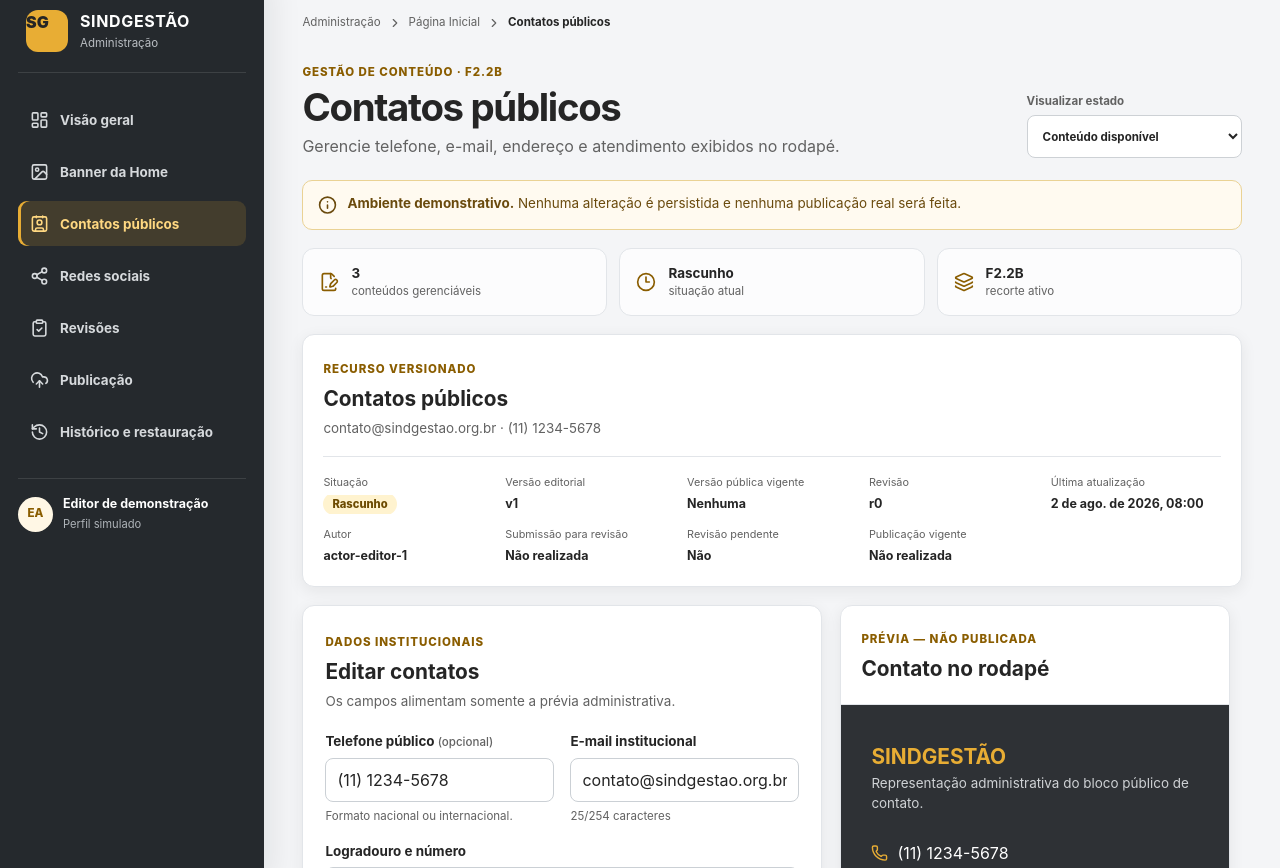
Test case: F2.2B contacts editor › omits an empty optional phone from preview
Clear the field labelled "Telefone público" at (440, 780), box [325,758,554,802]
(page scrolled)
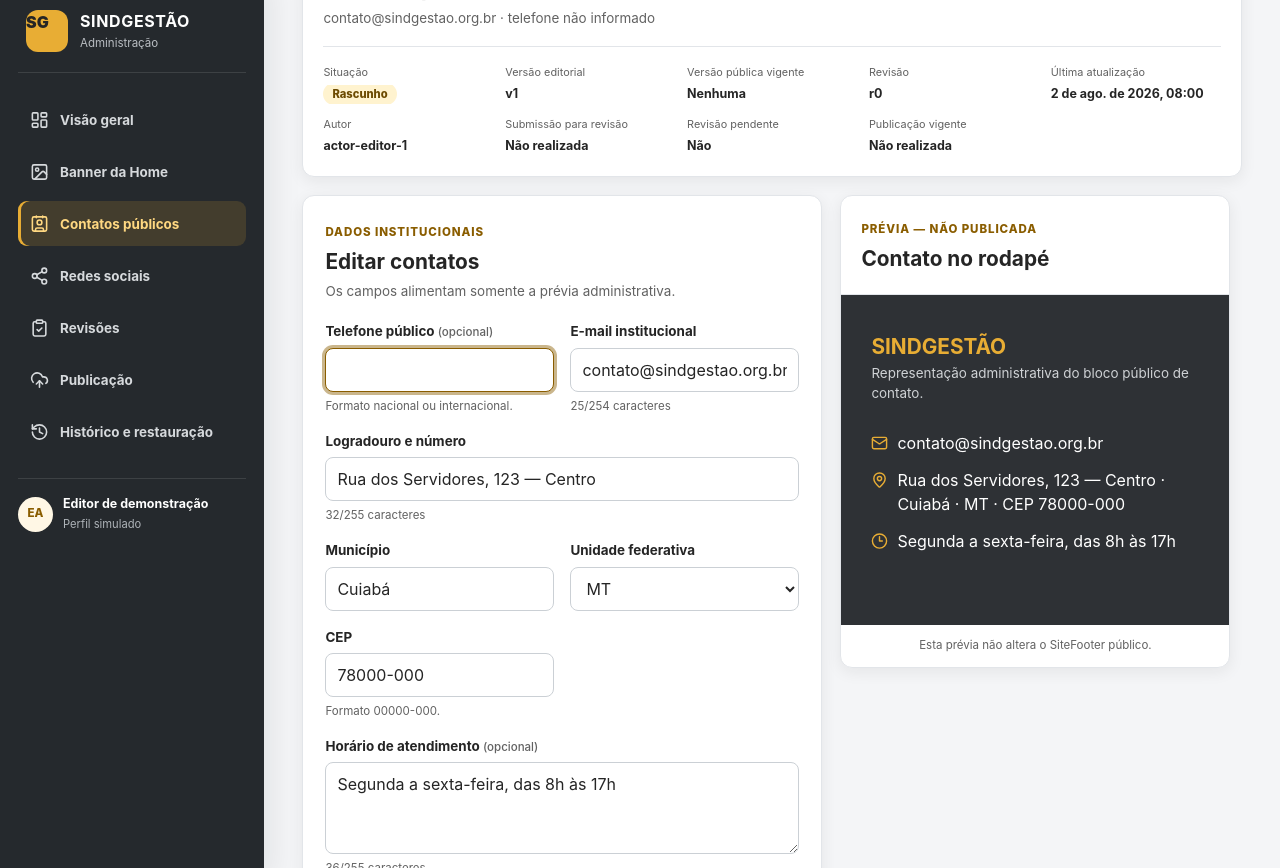
Expected: the element "Contato no rodapé" is shown, [840,195,1230,668]
Result: the text "(11) 1234-5678" is gone
